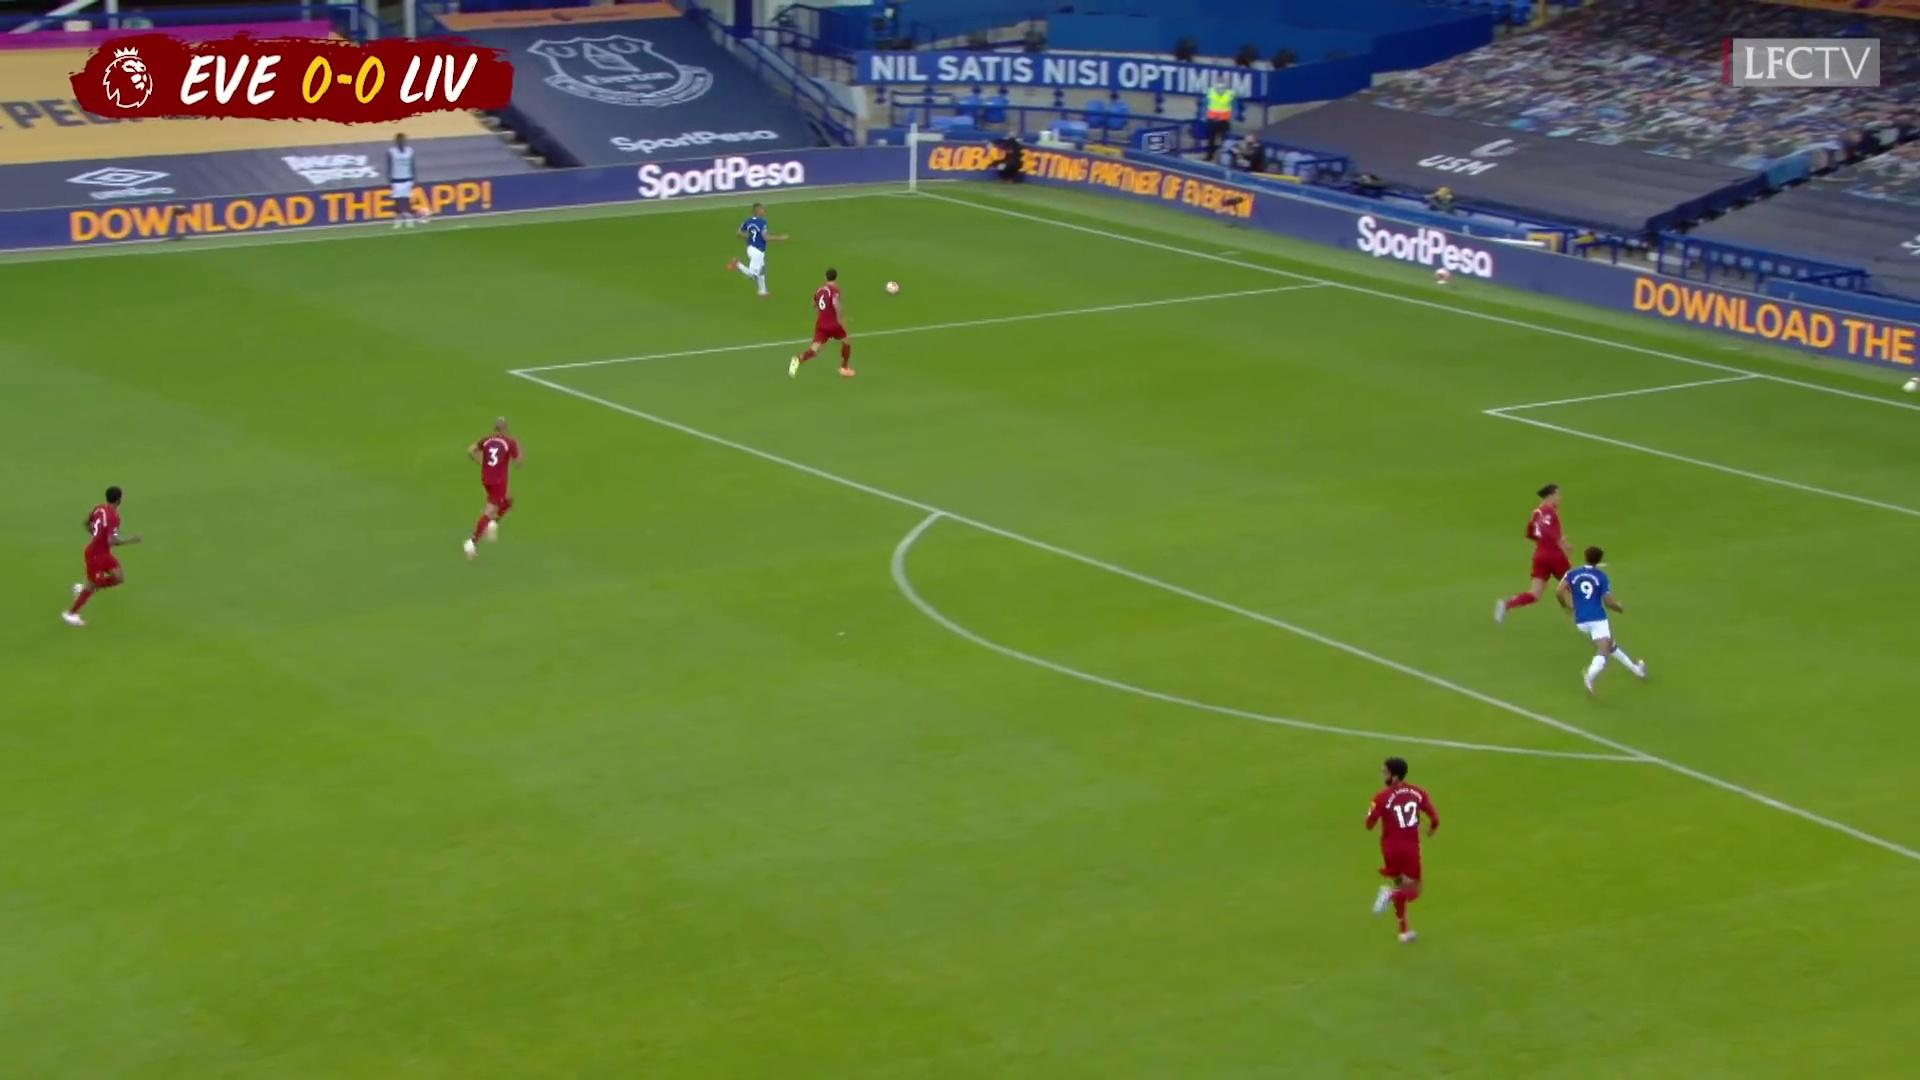ball: (882, 280, 904, 299), (1434, 264, 1452, 282)
player: (1359, 749, 1445, 949), (1489, 482, 1588, 634), (1557, 544, 1650, 699), (60, 482, 144, 634), (460, 411, 532, 563), (784, 267, 861, 382), (729, 202, 787, 304)
